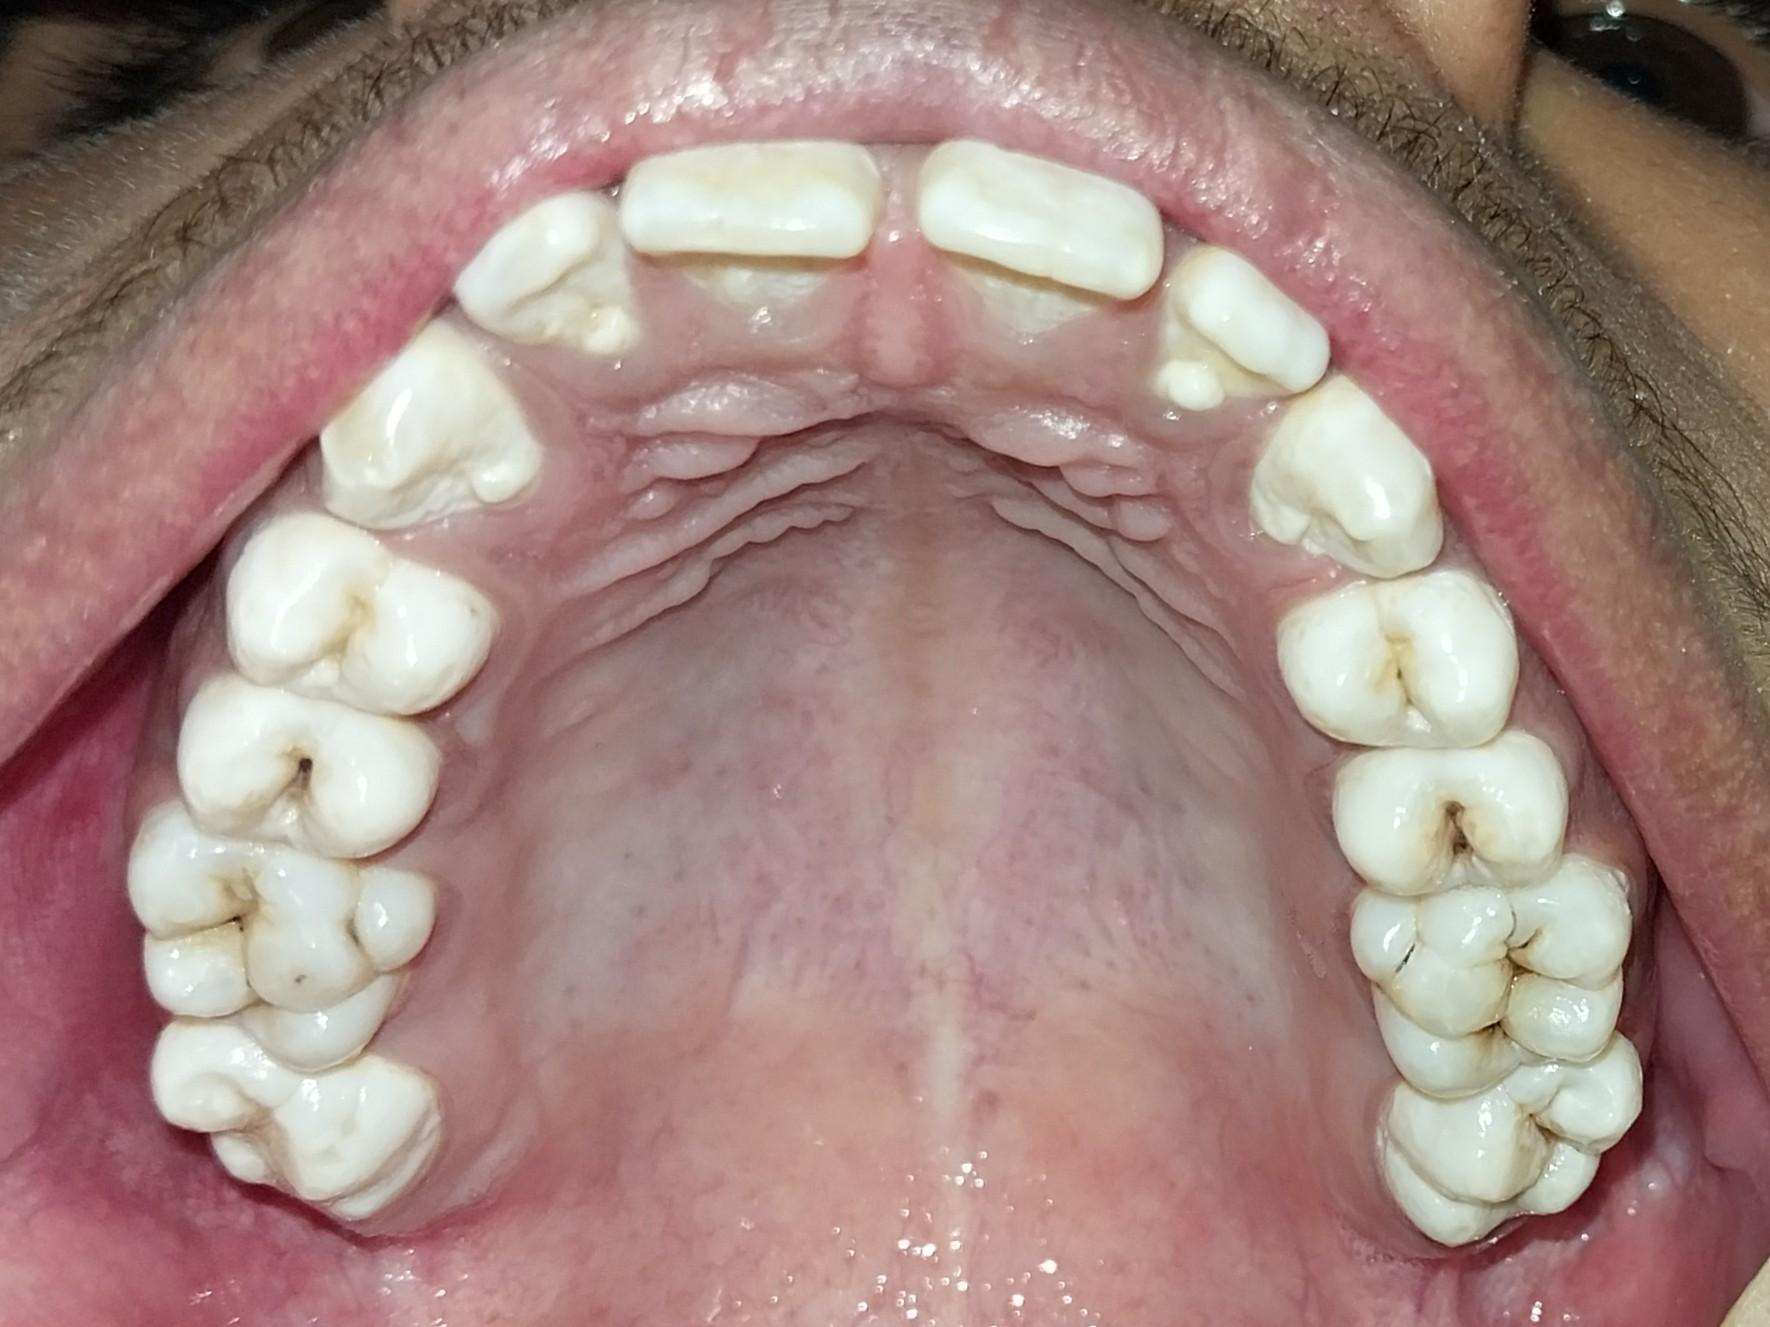D: (125, 802, 423, 1072), (1348, 865, 1650, 1086), (178, 683, 446, 868), (1382, 1063, 1650, 1249), (1284, 570, 1521, 743), (1312, 736, 1573, 890)
